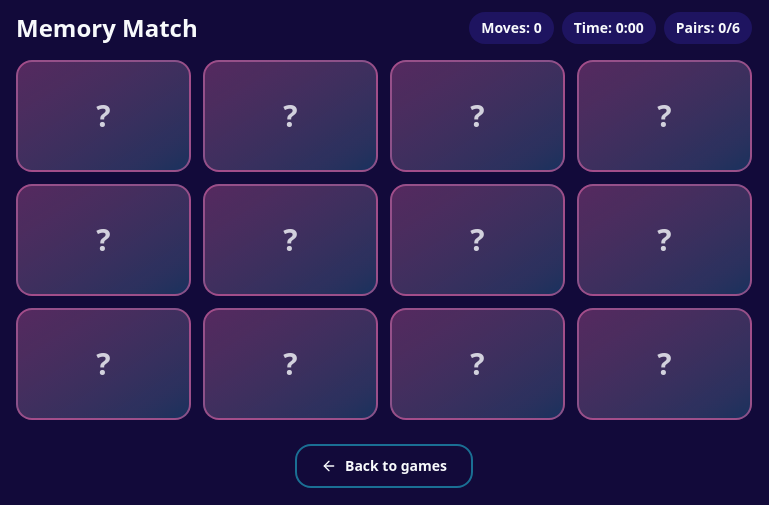
MemoryMatch › marks both cards of a matching pair as matched
The image size is (769, 505).
Click the button with test id "memory-card".
click(104, 240)  # box x1=16 y1=184 x2=191 y2=296
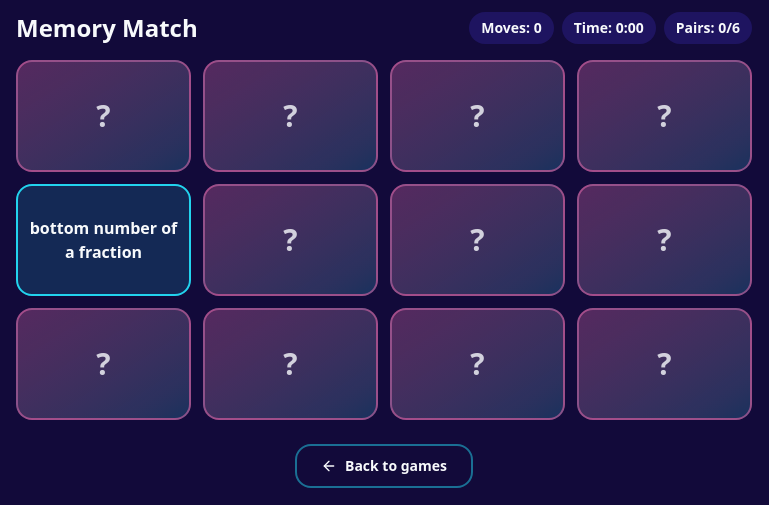
Click the button with test id "memory-card".
click(290, 364)  # box x1=203 y1=308 x2=378 y2=420
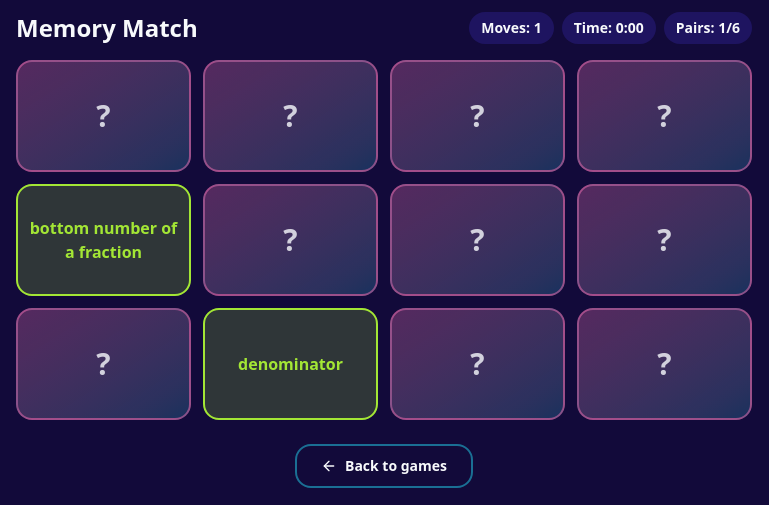
Expected: the text "Pairs: 1/6" is shown, x1=664 y1=12 x2=752 y2=44
